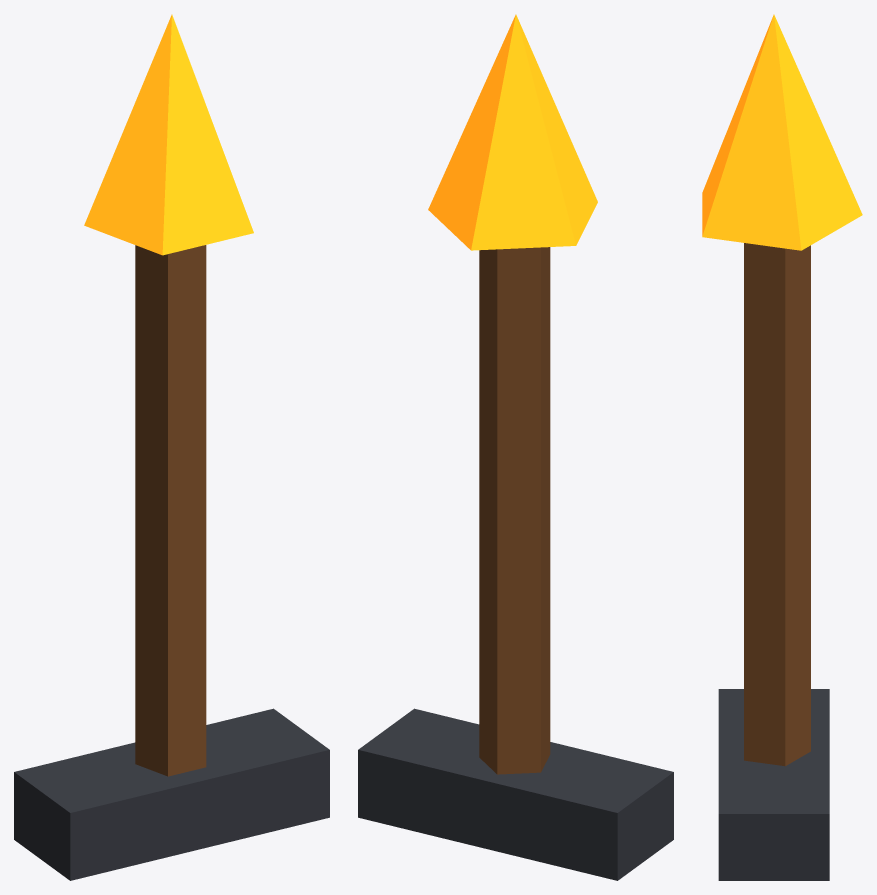
Rendered from torch_ice_wall.glb.
The picture shows the model from 3 angles, left to right: view 1: azimuth 30°, elevation 25°; view 2: azimuth 150°, elevation 25°; view 3: azimuth 270°, elevation 25°; orthographic projection.
Parts seen in each view (by area): view 1: torch_ice_wall; view 2: torch_ice_wall; view 3: torch_ice_wall.
Boxes of the visible parts, <box> form: torch_ice_wall: <box>14,14,329,880</box>; torch_ice_wall: <box>358,14,673,880</box>; torch_ice_wall: <box>702,14,862,880</box>.
Size of the model in its own units: 0.4 by 1.2 by 0.2171.
